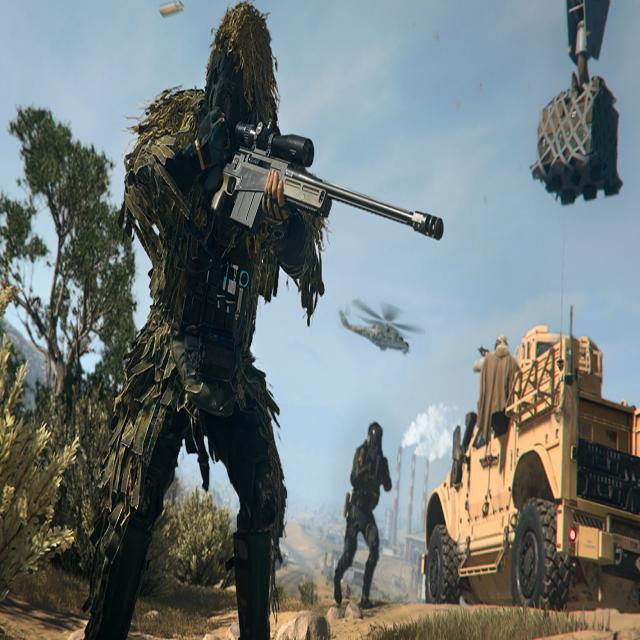Weapon: (211, 122, 443, 239)
